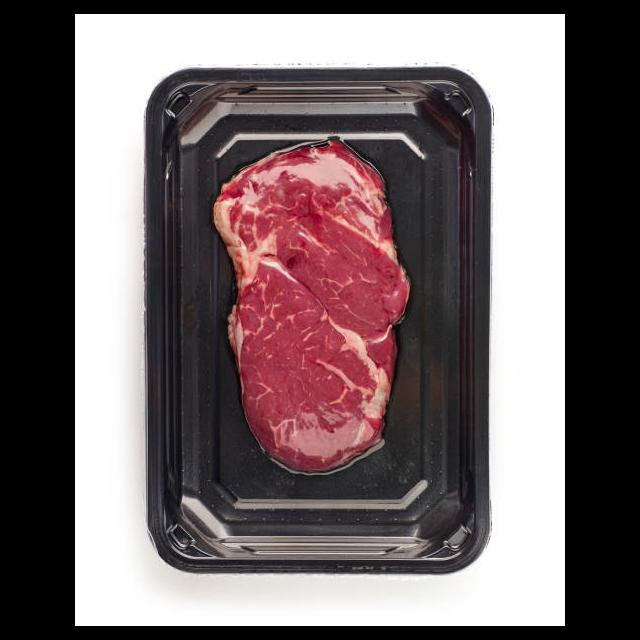beef: (211, 133, 411, 474)
